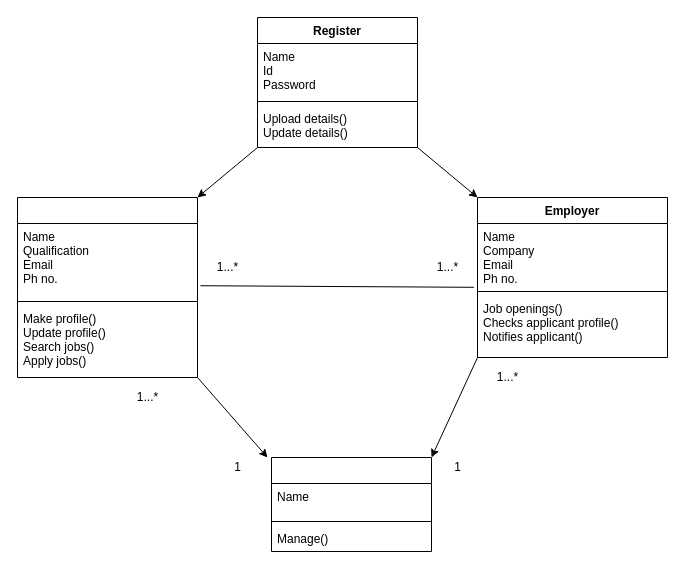
This 685x572 diagram has some shape labels left out. The shapes that lost their labels are listed below. From the top down, each one's box as (x1, y1, x2, y2) in pixels, then its label:
(16, 196, 198, 378): Applicant
(270, 456, 432, 552): Admin
